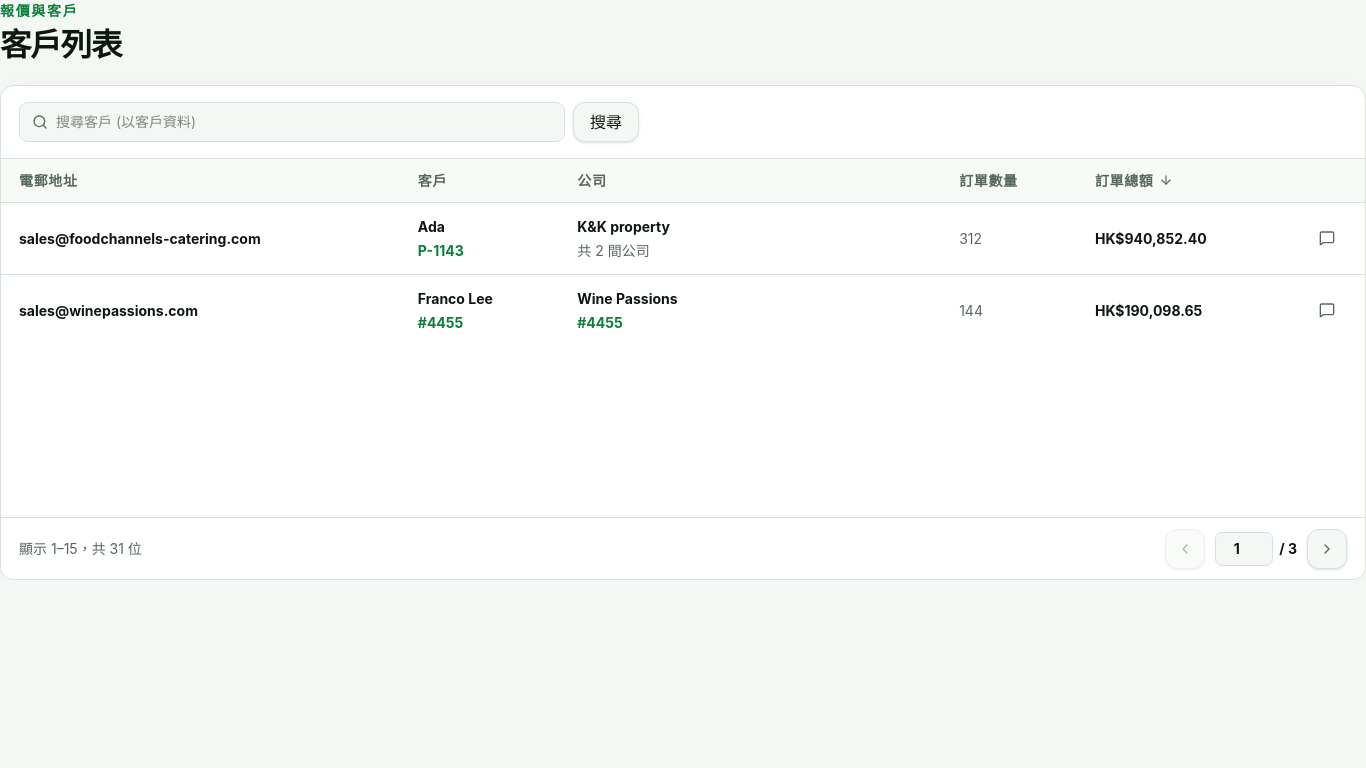
Quote customers list › opens a chat-style messages panel from the row action
Expected: the text "sales@foodchannels-catering.com" is shown, [19,230,261,247]
Click the button named "留言 sales@foodchannels-catering.com": x=1327, y=238 [1307,218,1347,258]
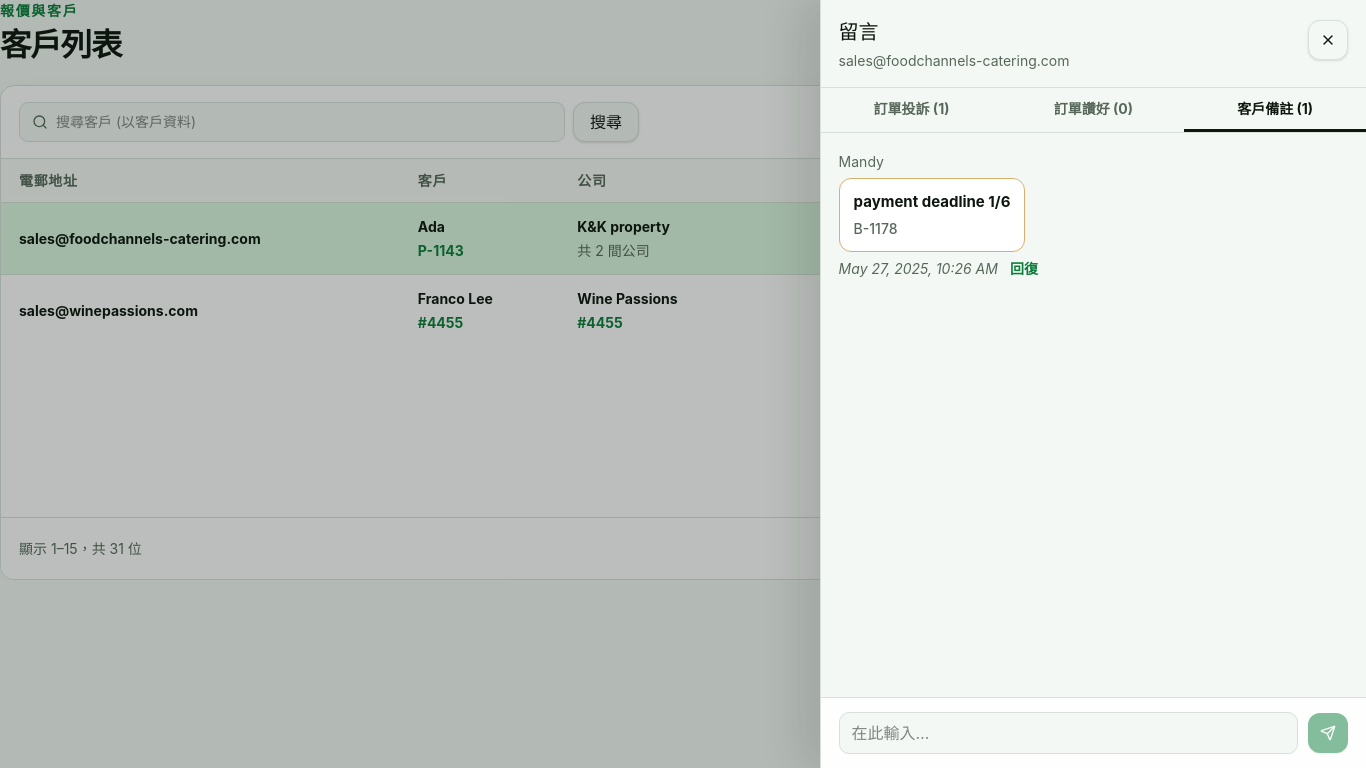
Result: the element showing "Mandy payment deadline 1/6 B-1178 May 27, 2025, 10:26 AM 回復" is shown at [839,153,1038,279]
Result: the tab "訂單投訴 (1)" is shown
Result: the tab "訂單讚好 (0)" is shown at [1002,88,1184,132]
Click the tab "訂單投訴 (1)": x=912, y=110 [821,88,1002,132]
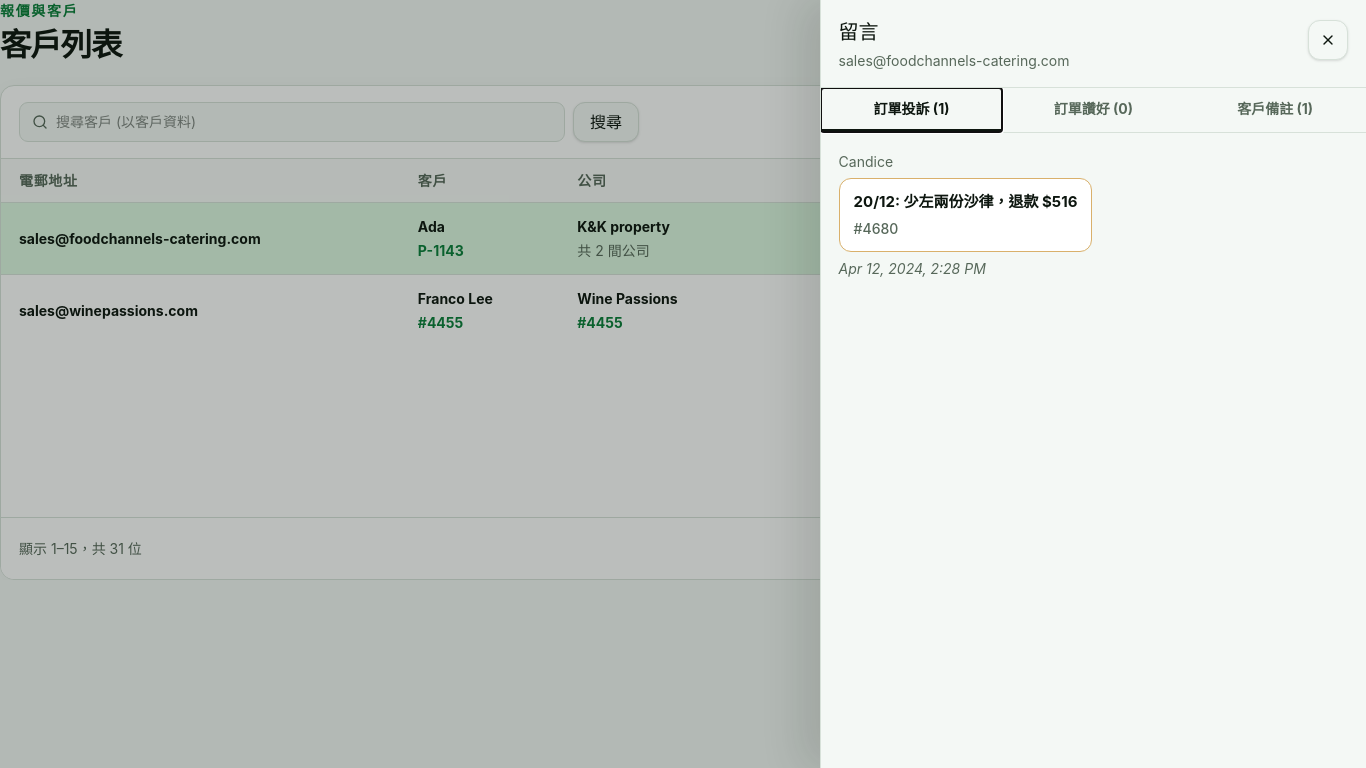
Result: the text "Candice" is shown at [839,151,893,172]
Result: the text "20/12: 少左兩份沙律，退款 $516" is shown at [854,191,1077,212]
Click the tab "客戶備註 (1)": x=1275, y=110 [1184,88,1365,132]
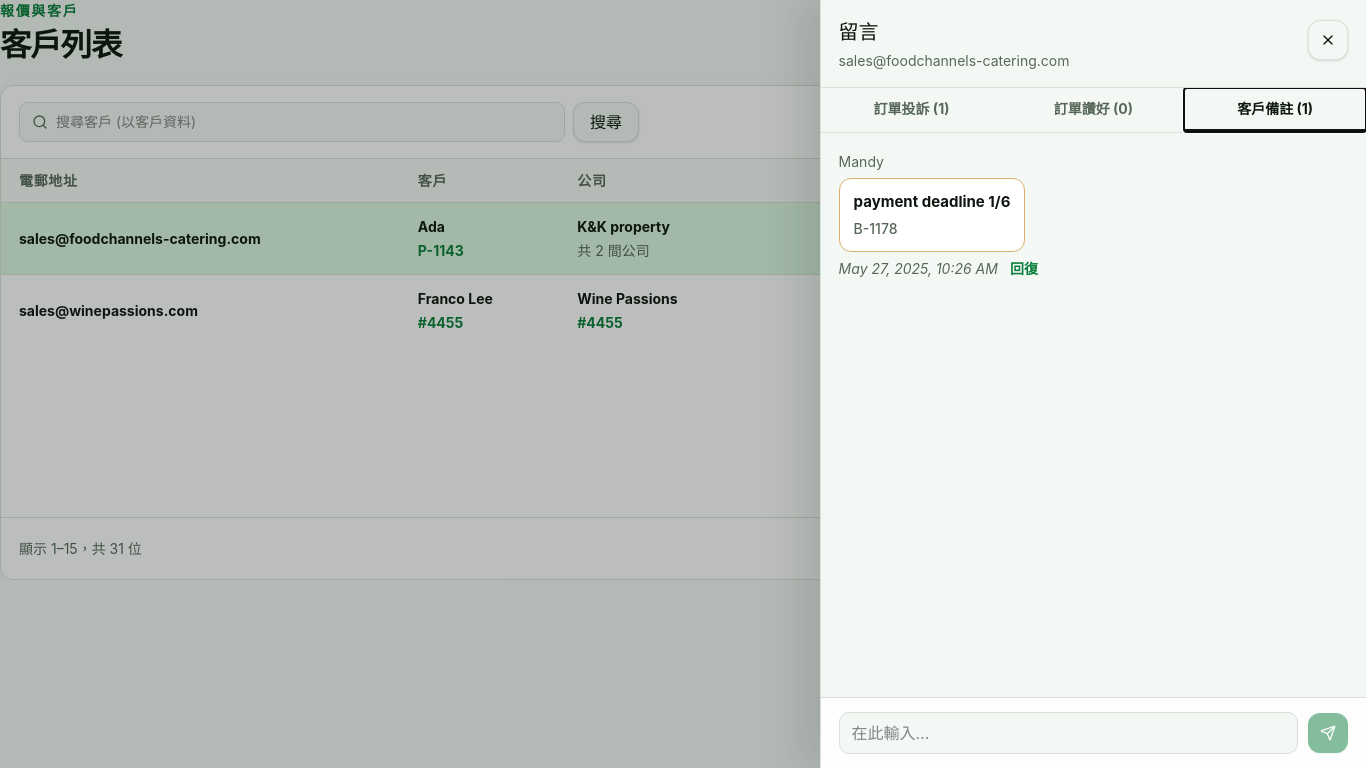
In the field with placeholder "在此輸入…": x=1068, y=733 [839,712,1298,754], type "已出月結"
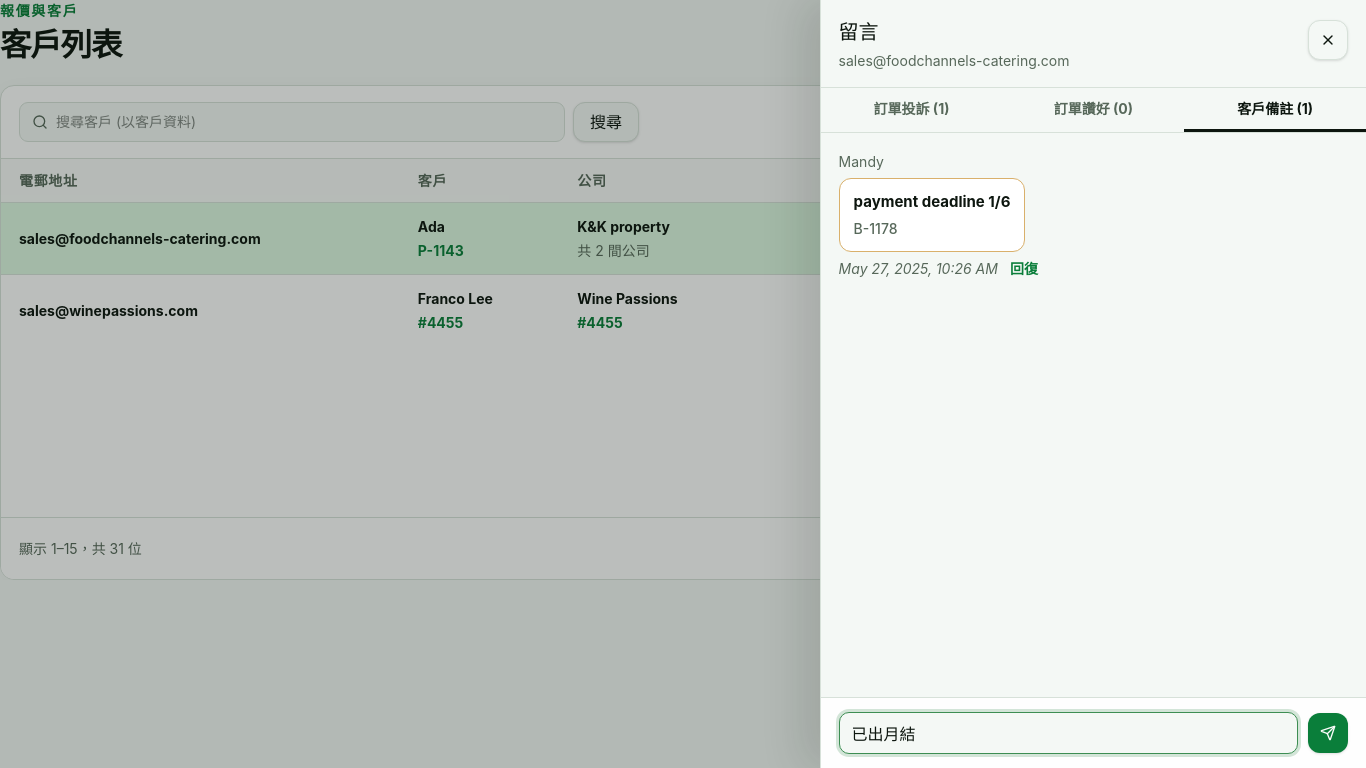
Click the button named "送出留言": x=1328, y=733 [1308,713,1348,753]
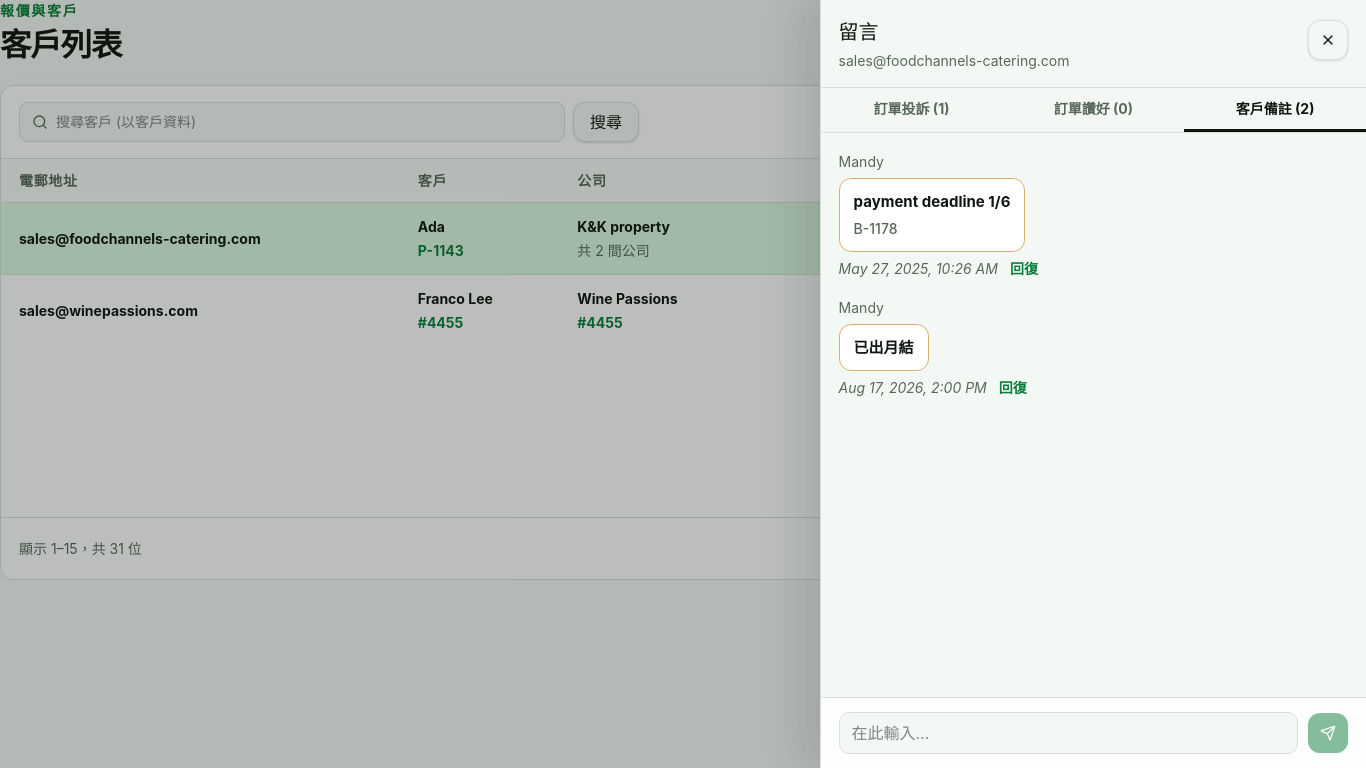
Result: the text "已出月結" is shown at [854,337,914,358]
